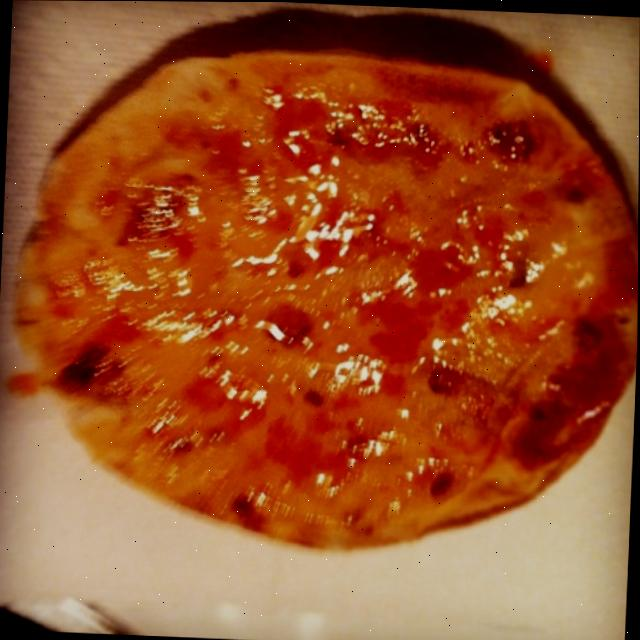面包点心: (17, 32, 640, 597)
